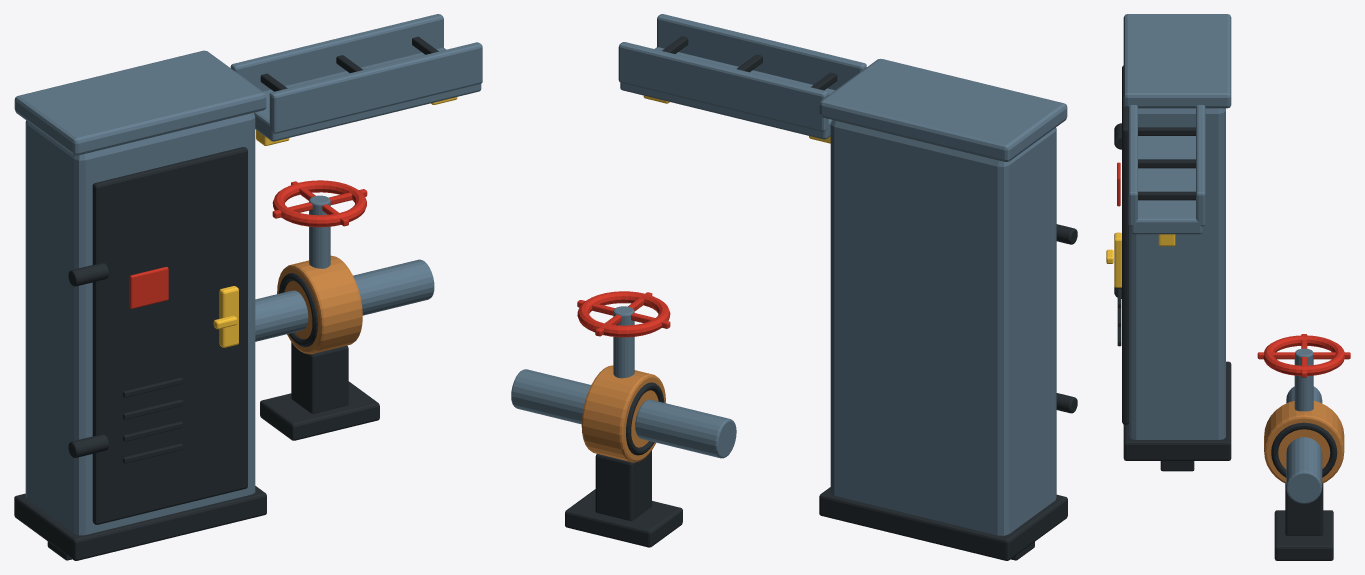
The model's file is utility-room-layout-a.glb.
3 renders of one model, left to right at view 1: azimuth 30°, elevation 25°; view 2: azimuth 150°, elevation 25°; view 3: azimuth 270°, elevation 25°, orthographic. The views are drawn at different scales.
Parts seen in each view (by area): view 1: EXPORT_layout_a_cabinet_door, EXPORT_layout_a_cabinet_body, EXPORT_layout_a_cabinet_top_cap, EXPORT_layout_a_tray_side_-0.16, EXPORT_layout_a_tray_side_+0.16, EXPORT_layout_a_cabinet_base_plinth, EXPORT_layout_a_valve_body, EXPORT_layout_a_valve_floor_bracket, EXPORT_layout_a_valve_support_pedestal, EXPORT_layout_a_pipe_segment_+0.30, EXPORT_layout_a_tray_base_1m, EXPORT_layout_a_valve_handwheel (+7 smaller); view 2: EXPORT_layout_a_cabinet_body, EXPORT_layout_a_cabinet_top_cap, EXPORT_layout_a_tray_side_+0.16, EXPORT_layout_a_tray_side_-0.16, EXPORT_layout_a_cabinet_base_plinth, EXPORT_layout_a_valve_body, EXPORT_layout_a_pipe_segment_-0.30, EXPORT_layout_a_valve_floor_bracket, EXPORT_layout_a_valve_support_pedestal, EXPORT_layout_a_pipe_segment_+0.30, EXPORT_layout_a_tray_base_1m, EXPORT_layout_a_valve_handwheel (+2 smaller); view 3: EXPORT_layout_a_cabinet_body, EXPORT_layout_a_cabinet_top_cap, EXPORT_layout_a_tray_base_1m, EXPORT_layout_a_valve_body, EXPORT_layout_a_cabinet_base_plinth, EXPORT_layout_a_cabinet_door, EXPORT_layout_a_pipe_segment_+0.30, EXPORT_layout_a_valve_floor_bracket, EXPORT_layout_a_valve_handwheel, EXPORT_layout_a_valve_support_pedestal, EXPORT_layout_a_tray_side_+0.16, EXPORT_layout_a_tray_side_-0.16 (+7 smaller).
Part boxes in pixels (x1=…): EXPORT_layout_a_cabinet_door: x1=92, y1=147, x2=247, y2=524; EXPORT_layout_a_cabinet_body: x1=25, y1=112, x2=255, y2=535; EXPORT_layout_a_cabinet_top_cap: x1=14, y1=50, x2=266, y2=155; EXPORT_layout_a_tray_side_-0.16: x1=269, y1=42, x2=482, y2=133; EXPORT_layout_a_tray_side_+0.16: x1=230, y1=14, x2=443, y2=91; EXPORT_layout_a_cabinet_base_plinth: x1=14, y1=486, x2=266, y2=560; EXPORT_layout_a_valve_body: x1=277, y1=255, x2=362, y2=354; EXPORT_layout_a_valve_floor_bracket: x1=260, y1=381, x2=379, y2=440; EXPORT_layout_a_valve_support_pedestal: x1=291, y1=342, x2=348, y2=413; EXPORT_layout_a_pipe_segment_+0.30: x1=353, y1=259, x2=434, y2=315; EXPORT_layout_a_tray_base_1m: x1=254, y1=47, x2=481, y2=141; EXPORT_layout_a_valve_handwheel: x1=272, y1=180, x2=366, y2=227; EXPORT_layout_a_cabinet_body: x1=830, y1=120, x2=1056, y2=535; EXPORT_layout_a_cabinet_top_cap: x1=819, y1=58, x2=1067, y2=161; EXPORT_layout_a_tray_side_+0.16: x1=618, y1=42, x2=828, y2=131; EXPORT_layout_a_tray_side_-0.16: x1=657, y1=14, x2=866, y2=90; EXPORT_layout_a_cabinet_base_plinth: x1=819, y1=487, x2=1067, y2=560; EXPORT_layout_a_valve_body: x1=581, y1=365, x2=665, y2=462; EXPORT_layout_a_pipe_segment_-0.30: x1=635, y1=399, x2=736, y2=458; EXPORT_layout_a_valve_floor_bracket: x1=565, y1=489, x2=682, y2=547; EXPORT_layout_a_valve_support_pedestal: x1=595, y1=450, x2=651, y2=520; EXPORT_layout_a_pipe_segment_+0.30: x1=511, y1=369, x2=590, y2=424; EXPORT_layout_a_tray_base_1m: x1=620, y1=47, x2=834, y2=139; EXPORT_layout_a_valve_handwheel: x1=577, y1=291, x2=670, y2=337; EXPORT_layout_a_cabinet_body: x1=1129, y1=108, x2=1225, y2=439; EXPORT_layout_a_cabinet_top_cap: x1=1123, y1=14, x2=1231, y2=108; EXPORT_layout_a_tray_base_1m: x1=1131, y1=136, x2=1202, y2=234; EXPORT_layout_a_valve_body: x1=1264, y1=400, x2=1344, y2=483; EXPORT_layout_a_cabinet_base_plinth: x1=1123, y1=361, x2=1231, y2=460; EXPORT_layout_a_cabinet_door: x1=1122, y1=65, x2=1128, y2=424; EXPORT_layout_a_pipe_segment_+0.30: x1=1286, y1=437, x2=1322, y2=503; EXPORT_layout_a_valve_floor_bracket: x1=1274, y1=510, x2=1333, y2=560; EXPORT_layout_a_valve_handwheel: x1=1263, y1=335, x2=1344, y2=375; EXPORT_layout_a_valve_support_pedestal: x1=1285, y1=483, x2=1323, y2=535; EXPORT_layout_a_tray_side_+0.16: x1=1196, y1=105, x2=1205, y2=226; EXPORT_layout_a_tray_side_-0.16: x1=1128, y1=105, x2=1137, y2=226.
Bounding box in the file's own units: 2.18 × 2 × 1.16.
